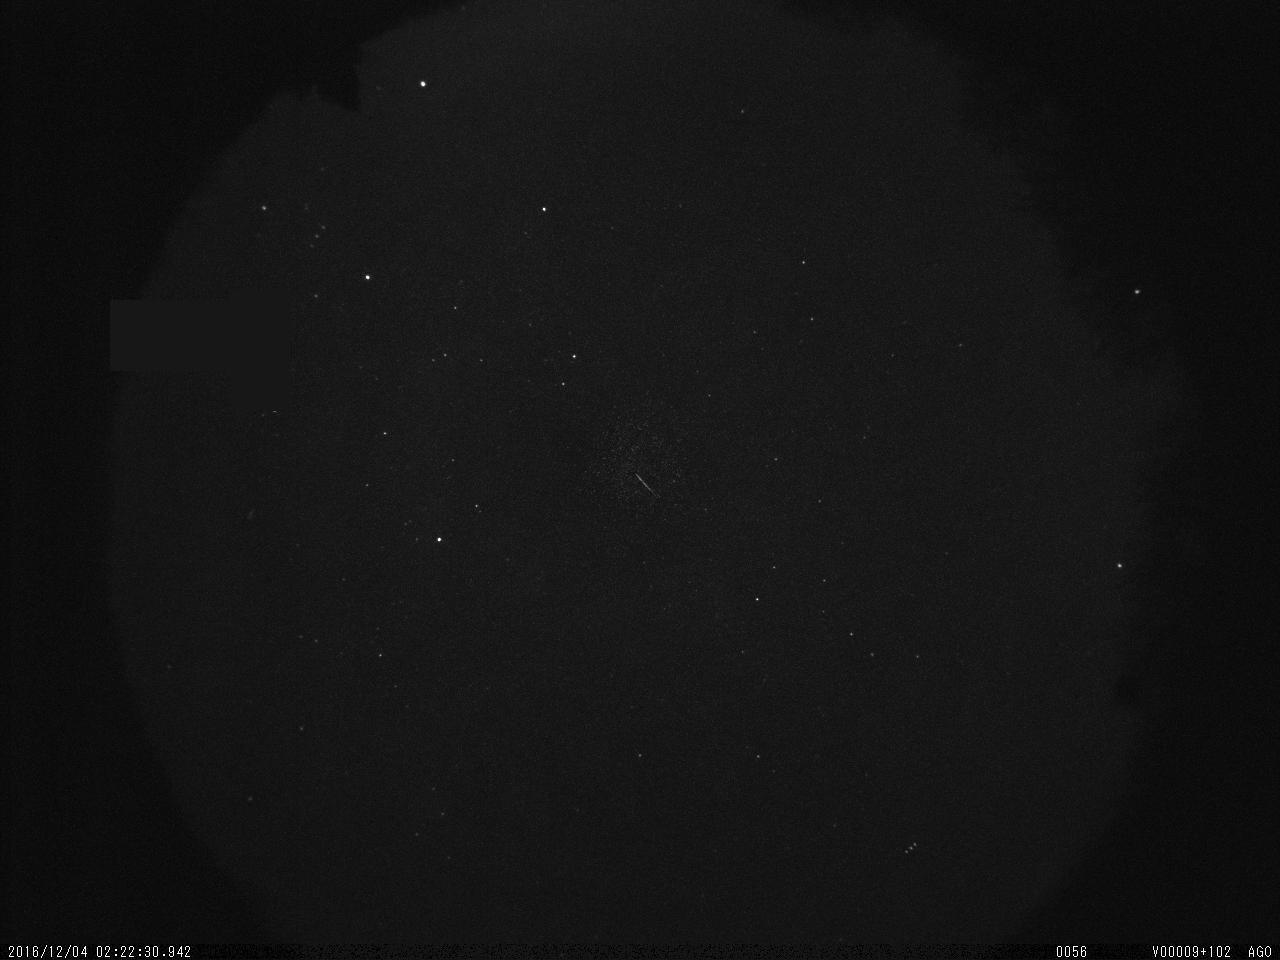meteor: (618, 454, 666, 501)
